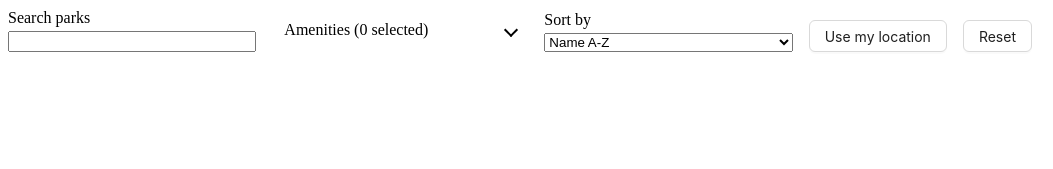
Test: SearchBar › accessibility › has no axe violations after location denied
The image size is (1053, 169).
Click the button "Use my location" at (878, 36), box [809, 20, 947, 52]
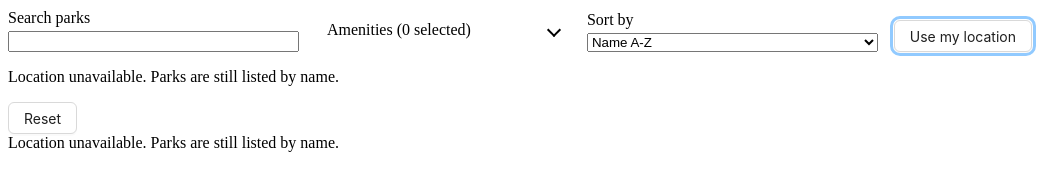
Result: the text "Location unavailable. Parks are still listed by name." is shown at [8, 68, 339, 85]
